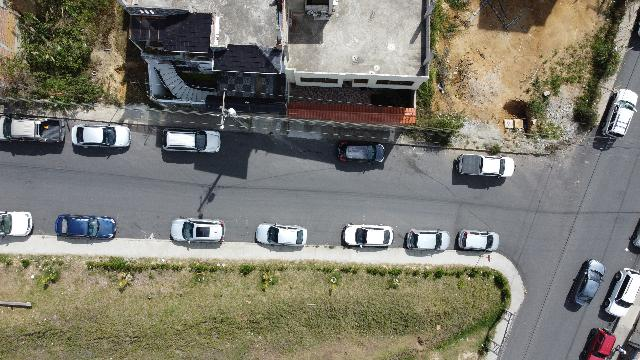Vehiculo: (0, 115, 66, 143), (603, 267, 639, 317), (602, 89, 638, 139), (570, 260, 606, 306), (71, 124, 131, 150), (56, 214, 116, 238), (162, 128, 220, 152), (456, 154, 514, 178), (170, 218, 224, 242), (578, 328, 618, 360), (341, 224, 394, 248), (255, 222, 307, 246), (404, 229, 450, 251), (338, 141, 384, 163), (455, 229, 499, 251), (1, 210, 34, 236), (629, 218, 639, 248)
